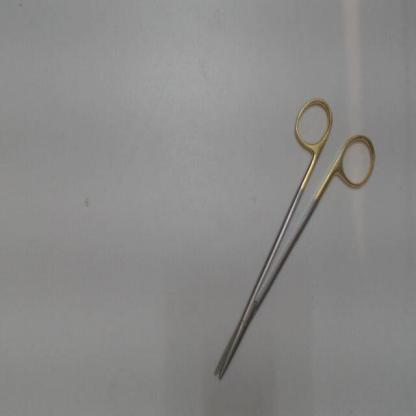7 Metzenbaum Scissors: (211, 94, 375, 384)
